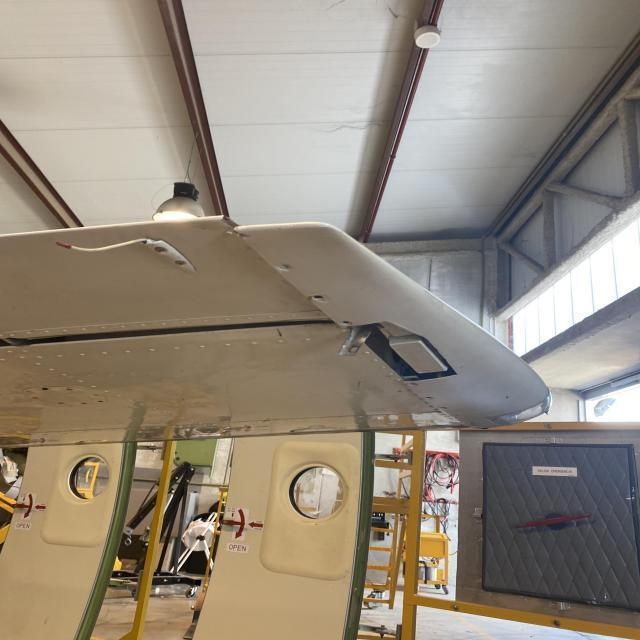Missing_Fastener: (276, 261, 296, 275), (311, 294, 330, 304), (338, 318, 353, 327), (436, 406, 449, 410), (424, 396, 434, 400), (408, 383, 420, 386)
